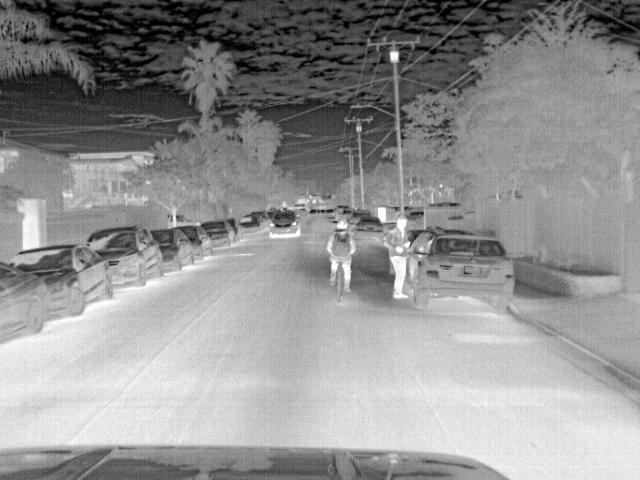car: (411, 230, 512, 311), (13, 244, 116, 320), (88, 226, 162, 290), (1, 260, 52, 341), (149, 228, 193, 273), (171, 222, 211, 263), (196, 218, 235, 252), (268, 208, 301, 238), (353, 216, 384, 243), (236, 214, 266, 236)
person: (324, 218, 356, 290), (387, 215, 411, 299)
